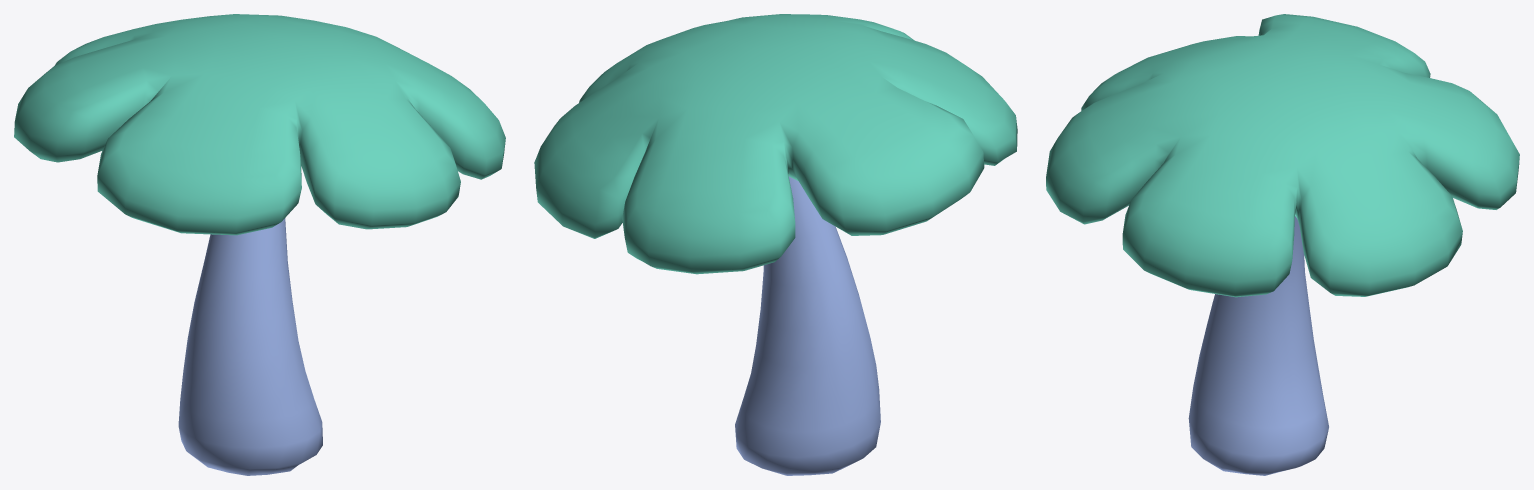
File: Shroom_A_02.fbx
3 renders of one model, left to right at view 1: azimuth 30°, elevation 25°; view 2: azimuth 150°, elevation 25°; view 3: azimuth 270°, elevation 25°, orthographic. The views are drawn at different scales.
Visible parts, largest first — view 1: Shroom_A_02_LOD0; view 2: Shroom_A_02_LOD0; view 3: Shroom_A_02_LOD0.
Part boxes in pixels (box(x1,y1,x2,y2)): Shroom_A_02_LOD0: box(14, 14, 505, 475); Shroom_A_02_LOD0: box(534, 14, 1017, 475); Shroom_A_02_LOD0: box(1046, 14, 1519, 475).
Size of what is drawn, in the model's own units: 599 by 558 by 610.
